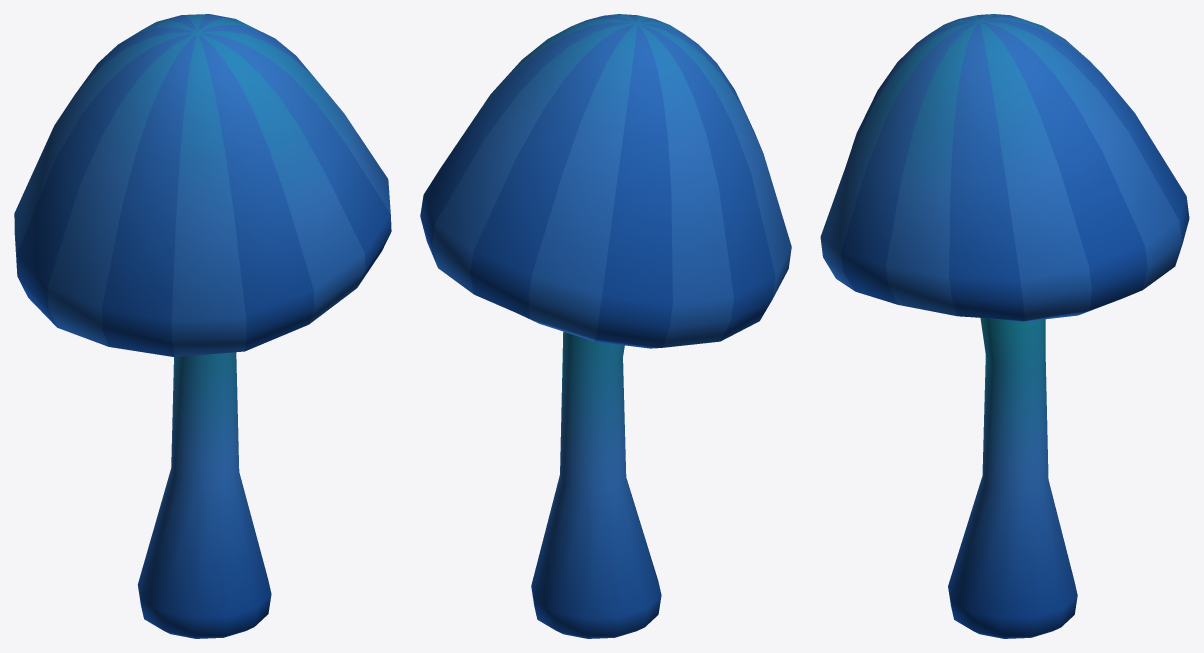
File: Fungus-2-3.fbx
The picture shows the model from 3 angles, left to right: view 1: azimuth 30°, elevation 25°; view 2: azimuth 150°, elevation 25°; view 3: azimuth 270°, elevation 25°; orthographic projection. The views are drawn at different scales.
Parts seen in each view (by area): view 1: Fungus-2-3; view 2: Fungus-2-3; view 3: Fungus-2-3.
Boxes of the visible parts, x1,y1,x2,y2 form: Fungus-2-3: (14,14,391,638); Fungus-2-3: (420,14,791,638); Fungus-2-3: (820,14,1189,638).
Bounding box in the file's own units: 73.44 × 129 × 73.45.
